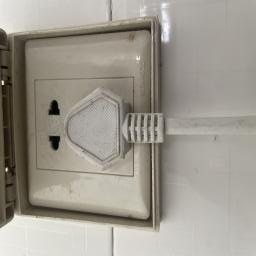outlet: (16, 18, 168, 229)
